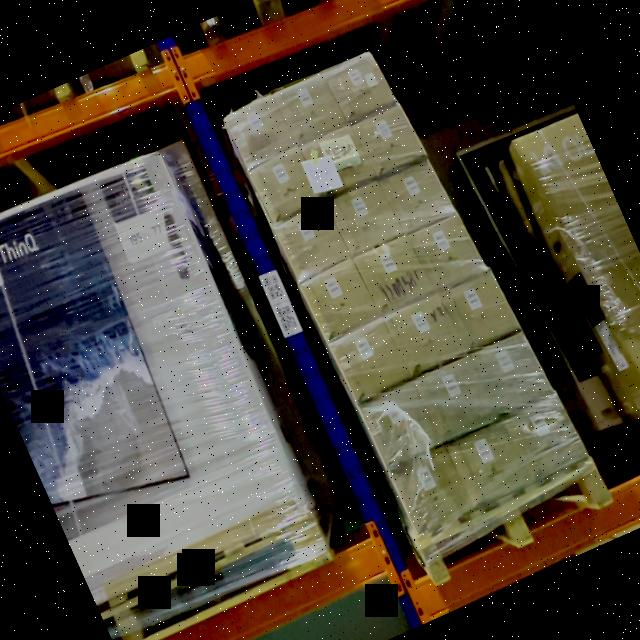box: (390, 445, 472, 534), (450, 423, 528, 507), (471, 332, 549, 414), (362, 384, 438, 462), (386, 298, 462, 376), (509, 399, 585, 477), (333, 323, 408, 402), (417, 360, 492, 438), (443, 272, 518, 350), (357, 236, 432, 313), (329, 182, 402, 256), (410, 212, 482, 287), (274, 206, 348, 278), (275, 74, 348, 146), (382, 158, 453, 232), (304, 263, 376, 335), (250, 148, 320, 222), (300, 128, 374, 198), (224, 99, 294, 167), (327, 49, 393, 120), (356, 106, 421, 169)
